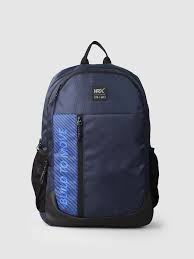backpack: (30, 40, 159, 228)
